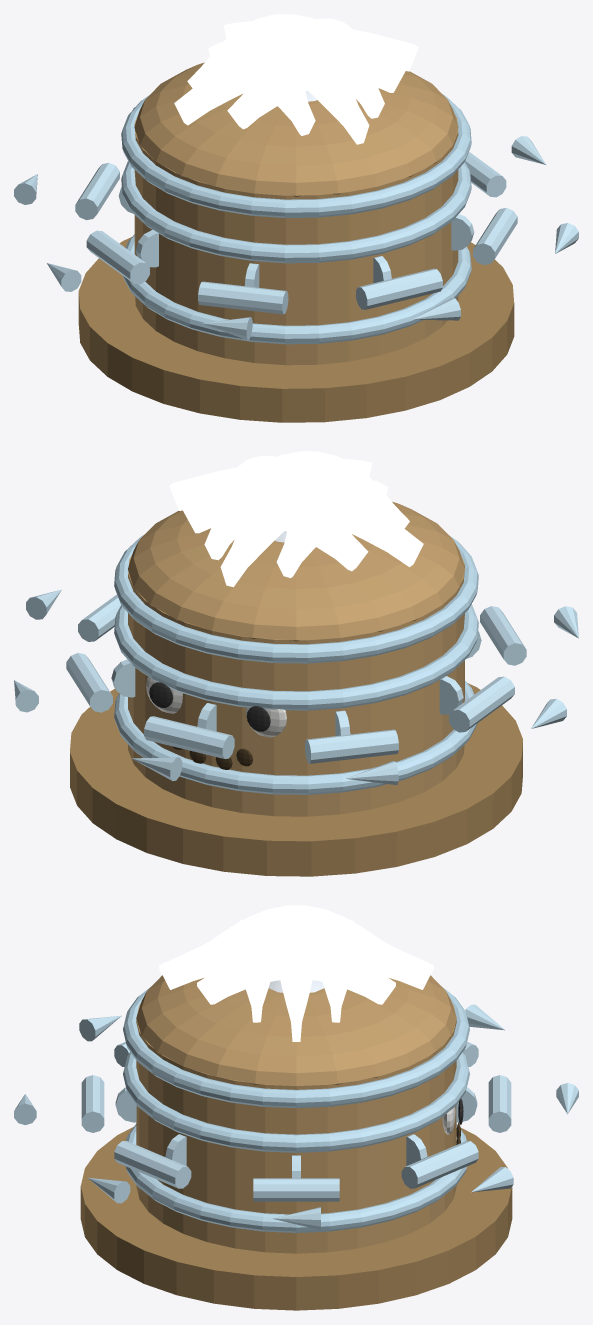
The model's file is tack010.fbx.
The picture shows the model from 3 angles, top to bottom: view 1: azimuth 30°, elevation 25°; view 2: azimuth 150°, elevation 25°; view 3: azimuth 270°, elevation 25°; orthographic projection. The views are drawn at different scales.
Visible parts, largest first — view 1: Base, Barrel, TopCap, Band_Top, Band_Mid, Band_Low, AirSymbol_Mid, AirSymbol_Bot, AirSymbol_Top_B, AirSymbol_Mid_B, AirSymbol_Bot_B, TackShaft_5 (+14 smaller); view 2: Base, Barrel, TopCap, Band_Top, Band_Mid, Band_Low, AirSymbol_Top, AirSymbol_Mid, AirSymbol_Top_B, AirSymbol_Mid_B, AirSymbol_Bot_B, TackShaft_3 (+15 smaller); view 3: Base, Barrel, TopCap, Band_Top, Band_Mid, Band_Low, AirSymbol_Bot_B, AirSymbol_Mid_B, AirSymbol_Bot, AirSymbol_Top, AirSymbol_Mid, TackShaft_0 (+11 smaller).
Part boxes in pixels (left/top/right/bottom): Base: left=78, top=237, right=514, bottom=422; Barrel: left=134, top=112, right=458, bottom=365; TopCap: left=134, top=62, right=458, bottom=196; Band_Top: left=121, top=94, right=471, bottom=217; Band_Mid: left=121, top=161, right=471, bottom=263; Band_Low: left=123, top=234, right=471, bottom=344; AirSymbol_Mid: left=174, top=27, right=418, bottom=125; AirSymbol_Bot: left=227, top=43, right=405, bottom=129; AirSymbol_Top_B: left=208, top=37, right=315, bottom=135; AirSymbol_Mid_B: left=223, top=21, right=369, bottom=144; AirSymbol_Bot_B: left=305, top=18, right=384, bottom=118; TackShaft_5: left=198, top=281, right=288, bottom=314; Base: left=70, top=683, right=522, bottom=876; Barrel: left=128, top=553, right=464, bottom=816; TopCap: left=128, top=501, right=464, bottom=641; Band_Top: left=114, top=534, right=478, bottom=663; Band_Mid: left=114, top=604, right=478, bottom=710; Band_Low: left=114, top=681, right=476, bottom=794; AirSymbol_Top: left=183, top=482, right=368, bottom=571; AirSymbol_Mid: left=169, top=465, right=423, bottom=567; AirSymbol_Top_B: left=276, top=475, right=388, bottom=578; AirSymbol_Mid_B: left=220, top=458, right=372, bottom=587; AirSymbol_Bot_B: left=204, top=456, right=287, bottom=560; TackShaft_3: left=305, top=729, right=398, bottom=763; Base: left=80, top=1127, right=512, bottom=1310; Barrel: left=136, top=1003, right=456, bottom=1253; TopCap: left=136, top=975, right=456, bottom=1085; Band_Top: left=123, top=987, right=469, bottom=1108; Band_Mid: left=123, top=1052, right=469, bottom=1152; Band_Low: left=125, top=1124, right=467, bottom=1232; AirSymbol_Bot_B: left=197, top=938, right=395, bottom=1004; AirSymbol_Mid_B: left=159, top=922, right=433, bottom=989; AirSymbol_Bot: left=237, top=919, right=276, bottom=1022; AirSymbol_Top: left=316, top=919, right=355, bottom=1022; AirSymbol_Mid: left=277, top=921, right=315, bottom=1041; TackShaft_0: left=253, top=1178, right=339, bottom=1201.
Size of the model in its own units: 275 by 155 by 275.
